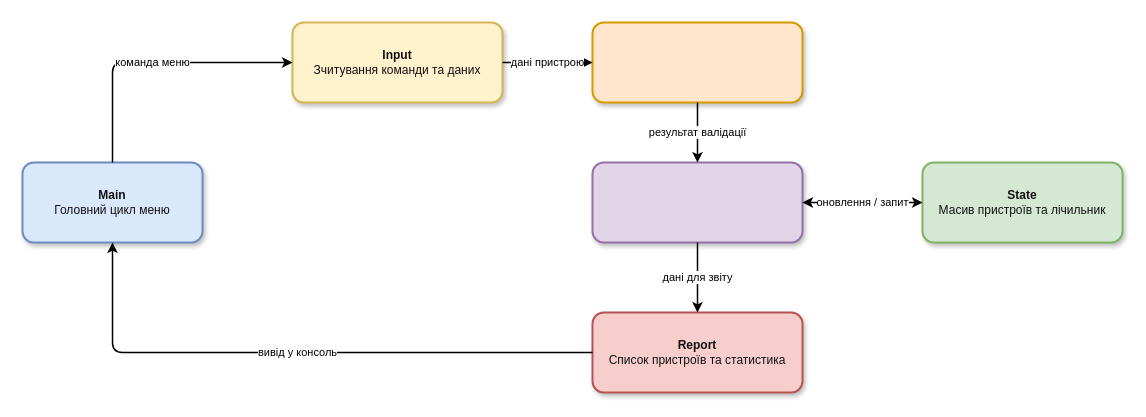
Image size: 1146x417. Some labels were removed from this diagram. The shapes that lost their labels are listed below. From the top down, each one's centre as x and y in pixels, then its label:
At point (698, 63): "Validation Перевірка полів та обмежень".
At point (698, 203): "Processing Додавання, пошук, зміна стану".
